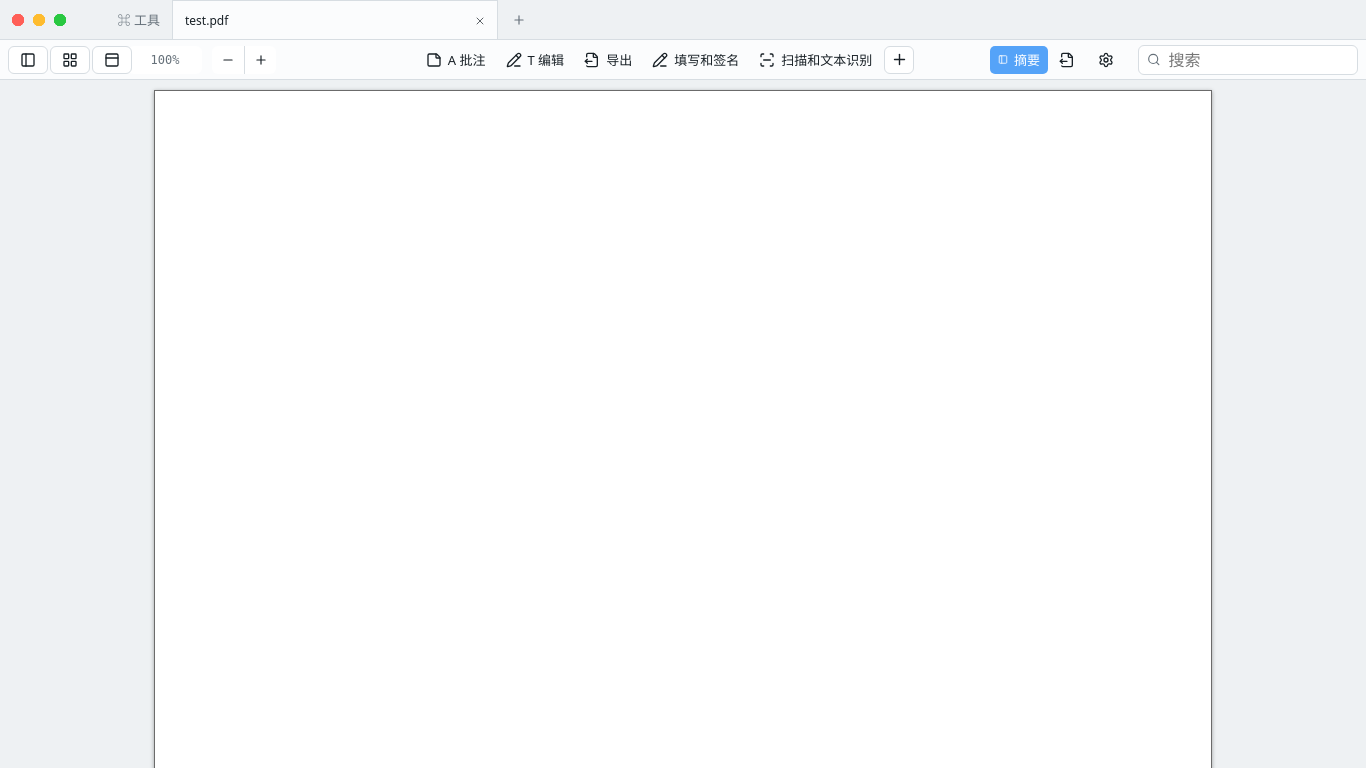
it: AppShell modes 上下文工具条 › tool launcher Save As writes a real copy instead of showing placeholder feedback
Click the button named "工具": (899, 60) [884, 46, 914, 74]
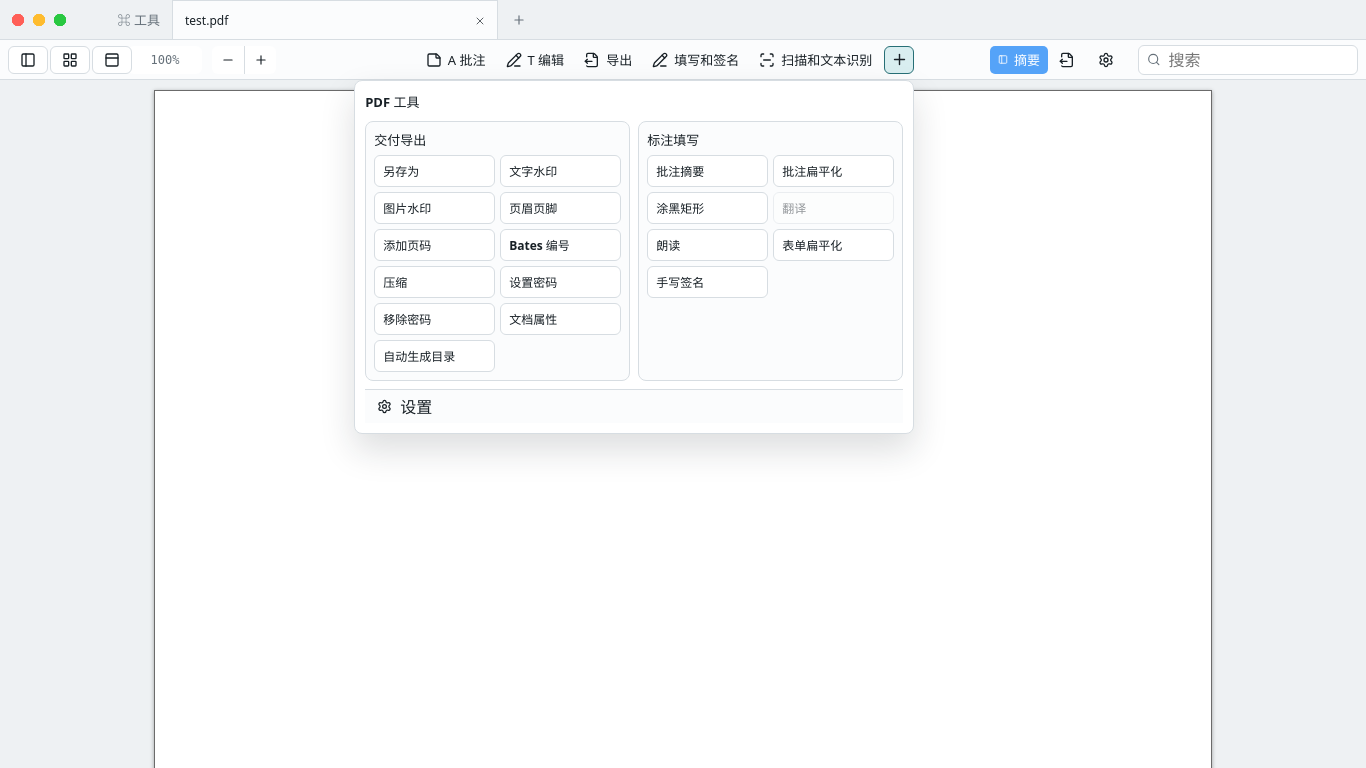
Click the menu item "另存为": (435, 170) [374, 154, 495, 186]
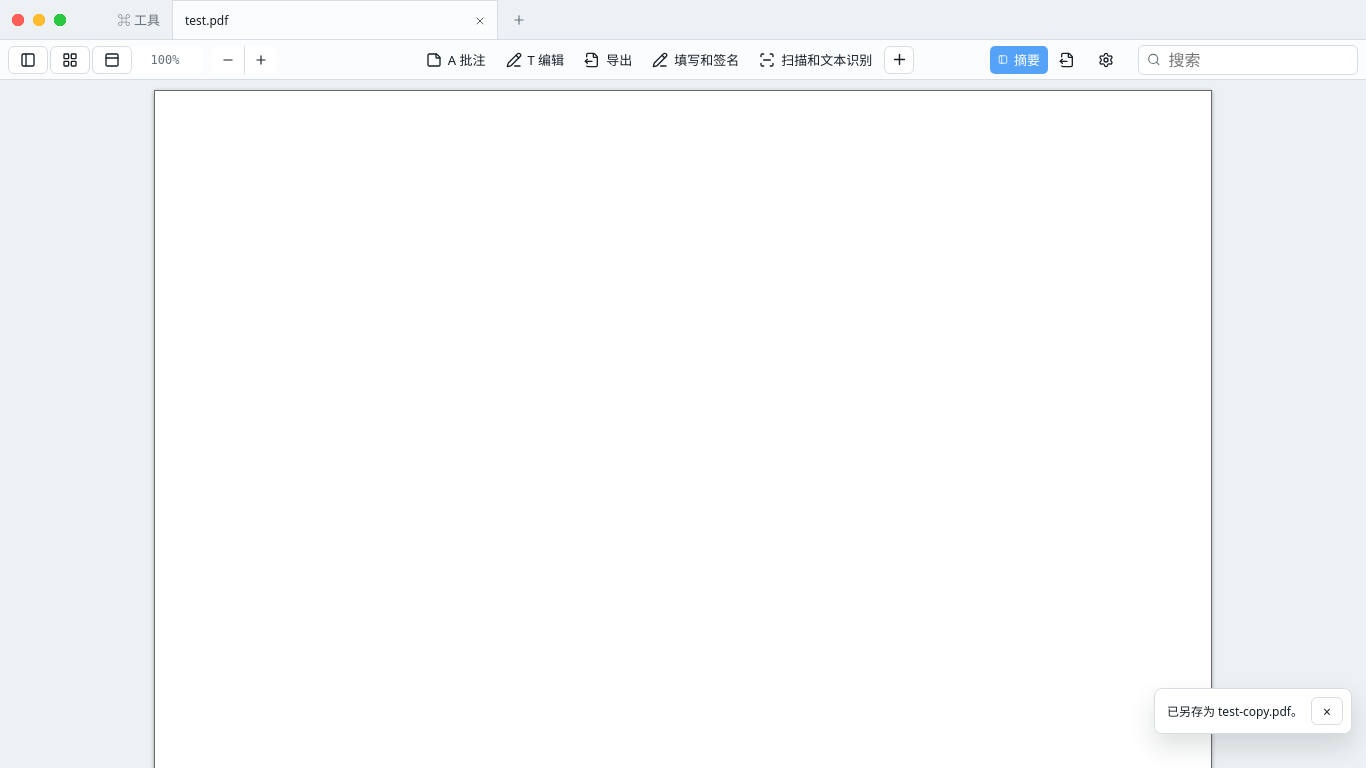
Result: the text "已另存为 test-copy.pdf。" is shown at [1167, 702, 1303, 720]
